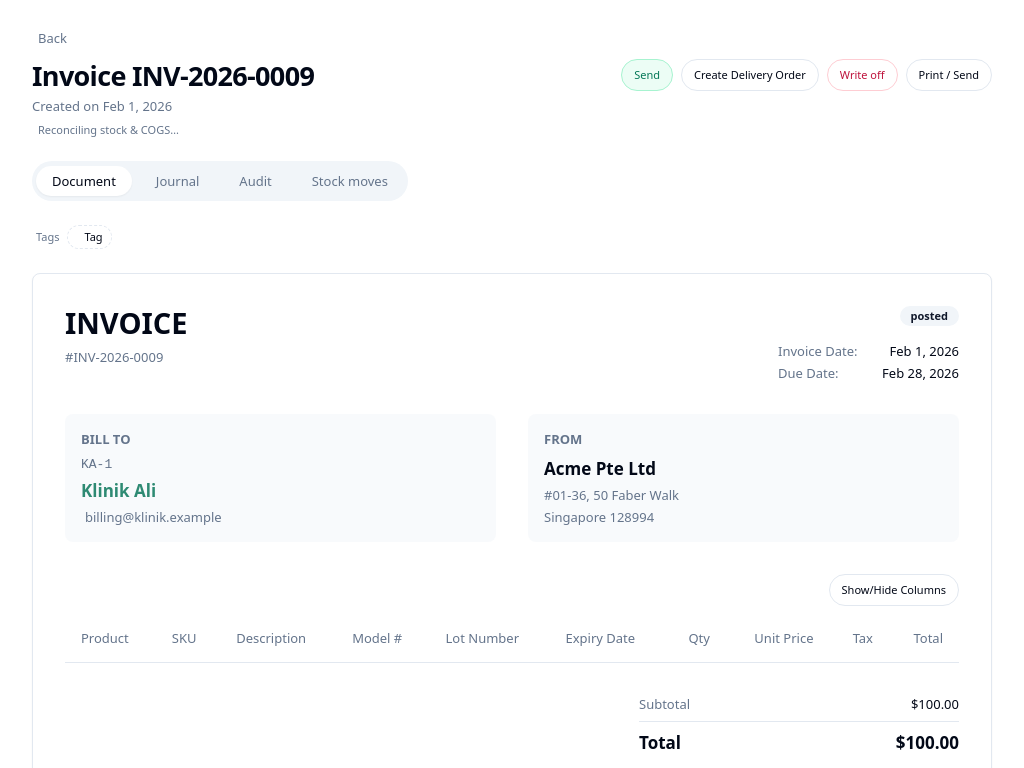
Test: InvoiceDetailPage — write-off action (#886) › shows the bad-debt journal preview, then posts the write-off with reason and account
Expected: the heading "Invoice INV-2026-0009" is shown, [32,57,314,94]
Click the button "Write off" at (862, 75), box [827,59,898,91]
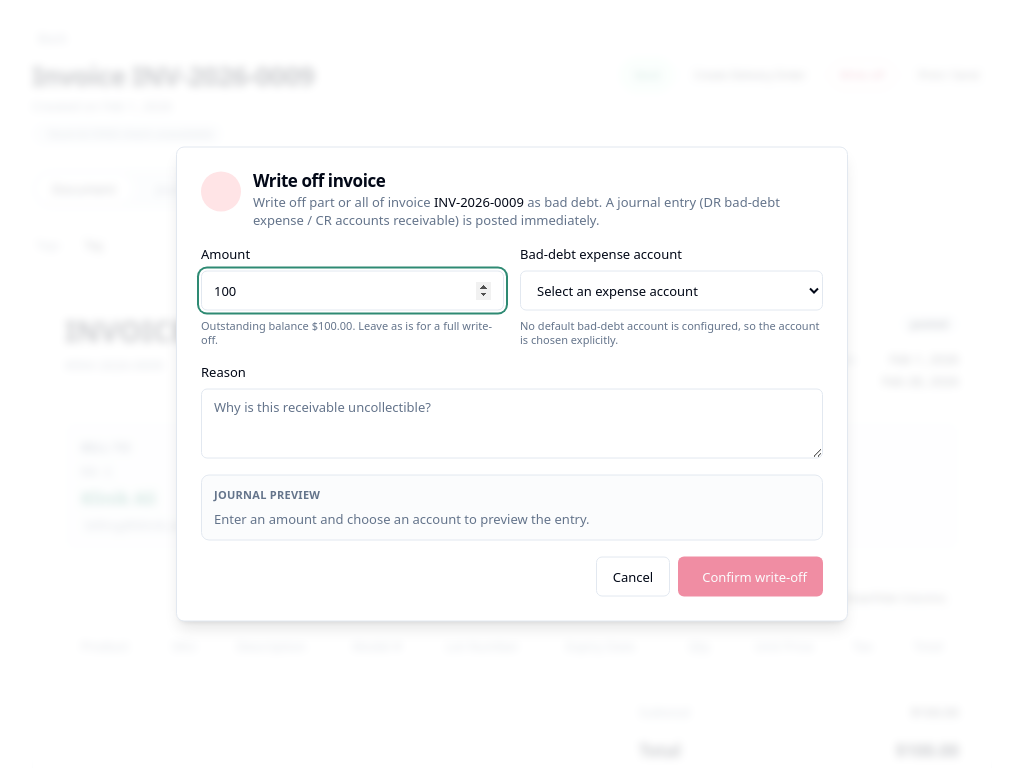
Expected: the heading "Write off invoice" is shown, [253,168,385,192]
Expected: the number field labelled "Amount" holds "100", [201,270,504,310]
Select "5900 — Bad Debt Expense" in the dropdown labelled "Bad-debt expense account" at (672, 290), box [520,270,823,310]
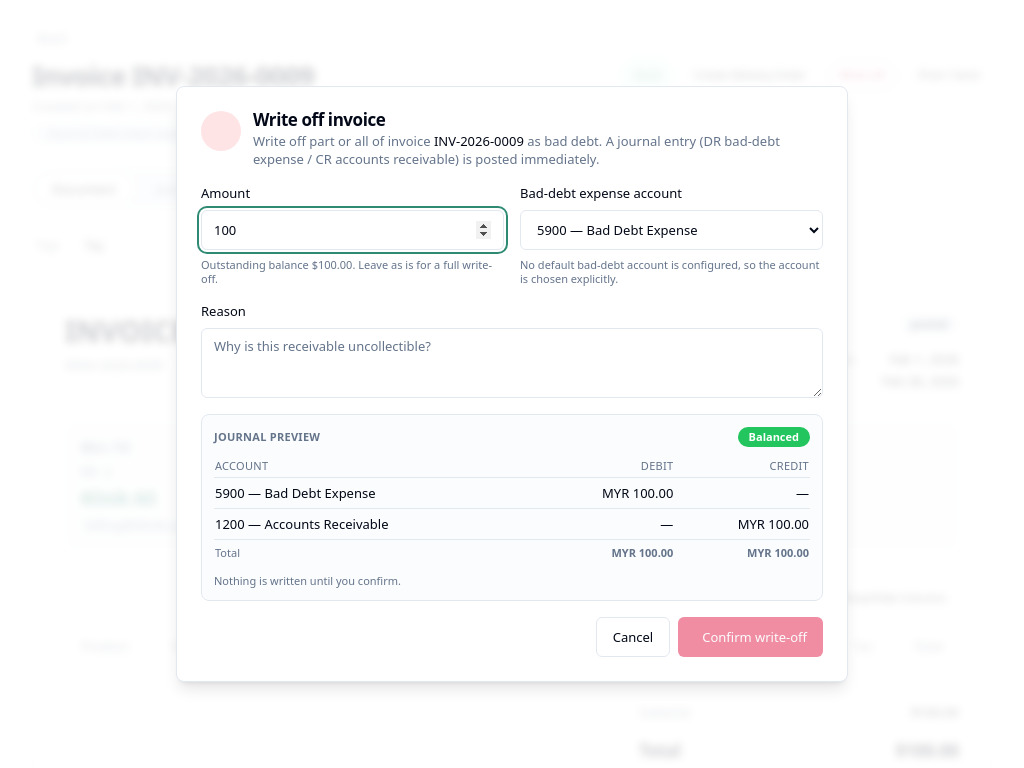
Expected: the text "Journal preview" is shown, [214,430,320,444]
Expected: the text "1200 — Accounts Receivable" is shown, [214,508,539,540]
Expected: the text "Balanced" is shown, [738,427,810,447]
Type "Customer insolvent" into the text box labelled "Reason" at (512, 363), box [201,328,823,398]
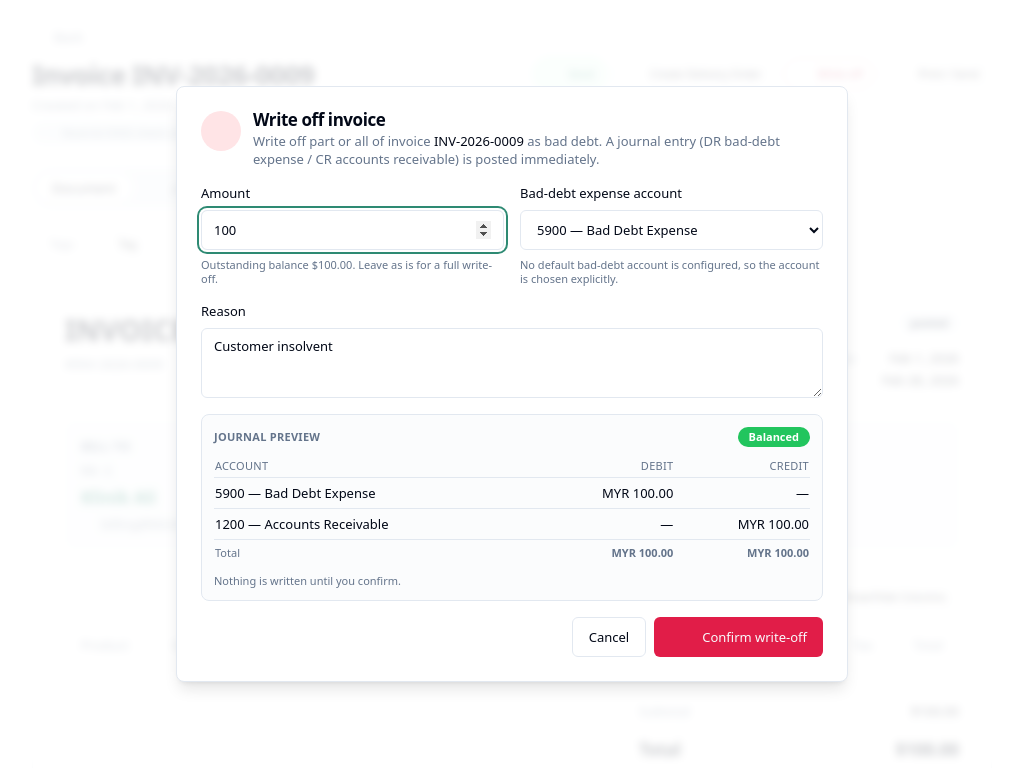
Click the button "Confirm write-off" at (739, 637), box [654,617,823,657]
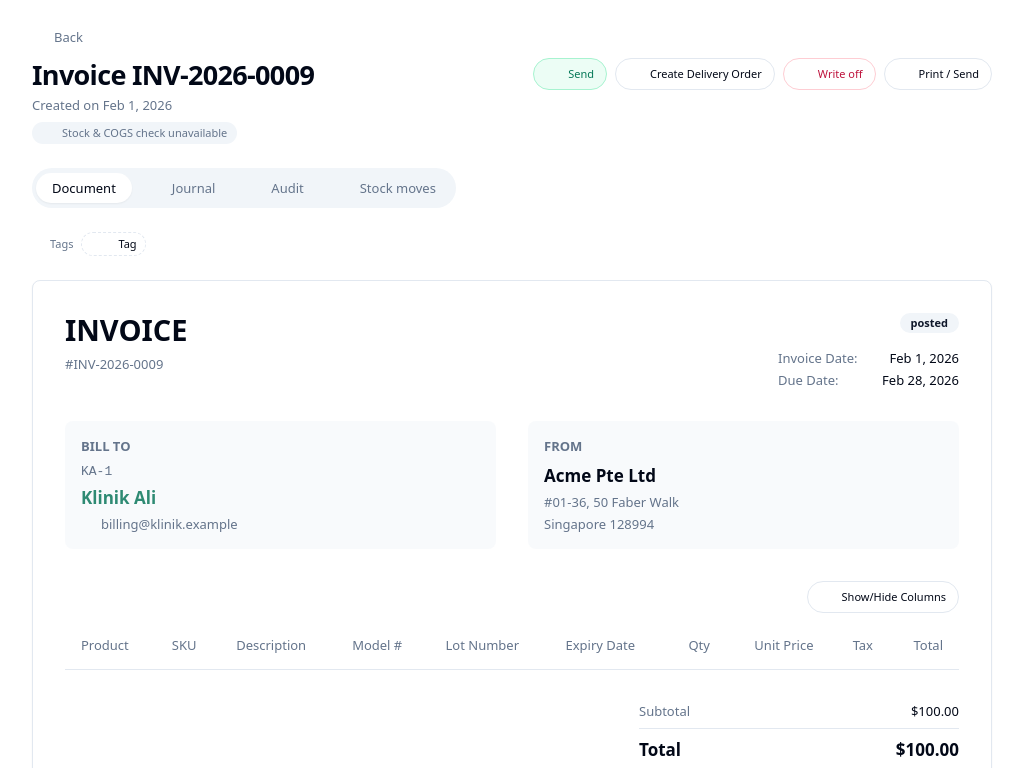
Expected: the heading "Write off invoice" is gone
